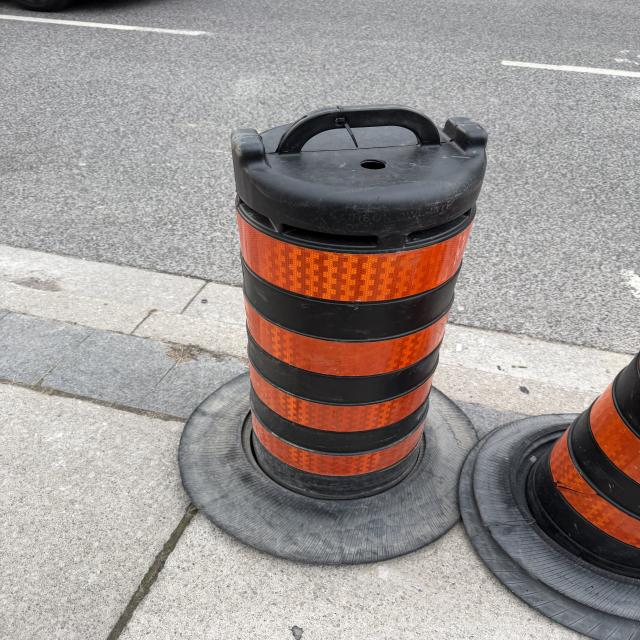Teraffic Barrel: (180, 105, 487, 563), (460, 354, 640, 640)
